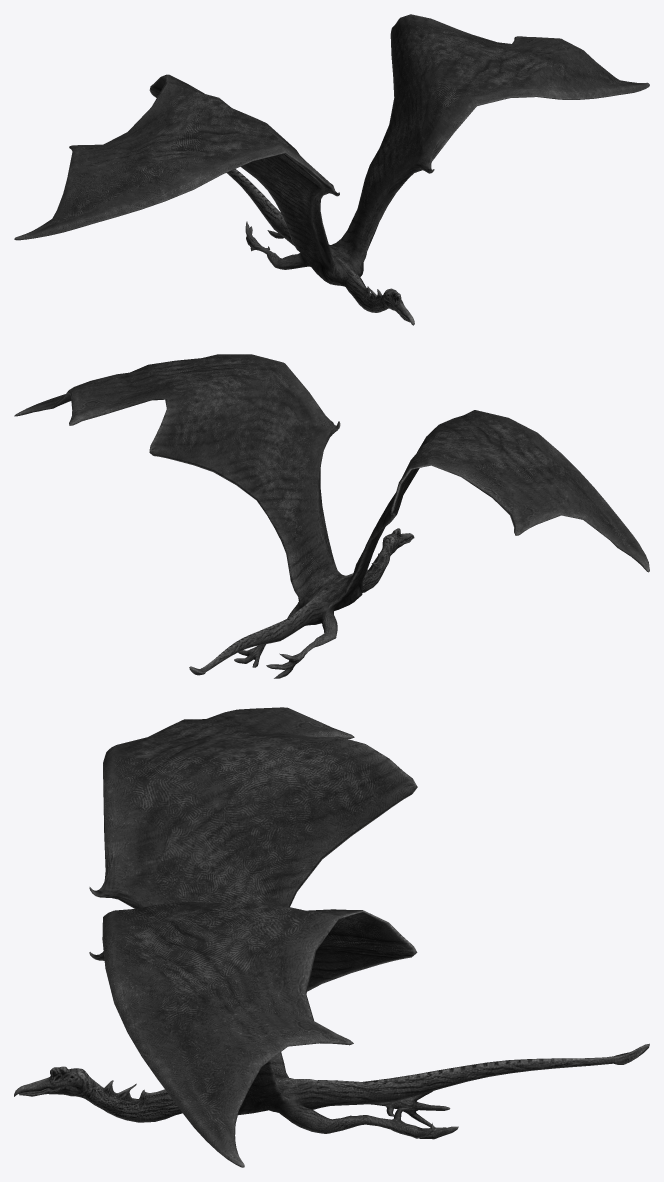
The model's file is Fellbeast_Animate_Flying_9.obj.
The picture shows the model from 3 angles, top to bottom: view 1: azimuth 30°, elevation 25°; view 2: azimuth 150°, elevation 25°; view 3: azimuth 270°, elevation 25°; orthographic projection. The views are drawn at different scales.
Parts seen in each view (by area): view 1: Fellbeast; view 2: Fellbeast; view 3: Fellbeast.
Boxes of the visible parts, x1=… form: Fellbeast: x1=14, y1=14, x2=649, y2=325; Fellbeast: x1=14, y1=354, x2=649, y2=678; Fellbeast: x1=14, y1=707, x2=649, y2=1167.
Size of the model in its own units: 7.1 by 2.35 by 4.36.
